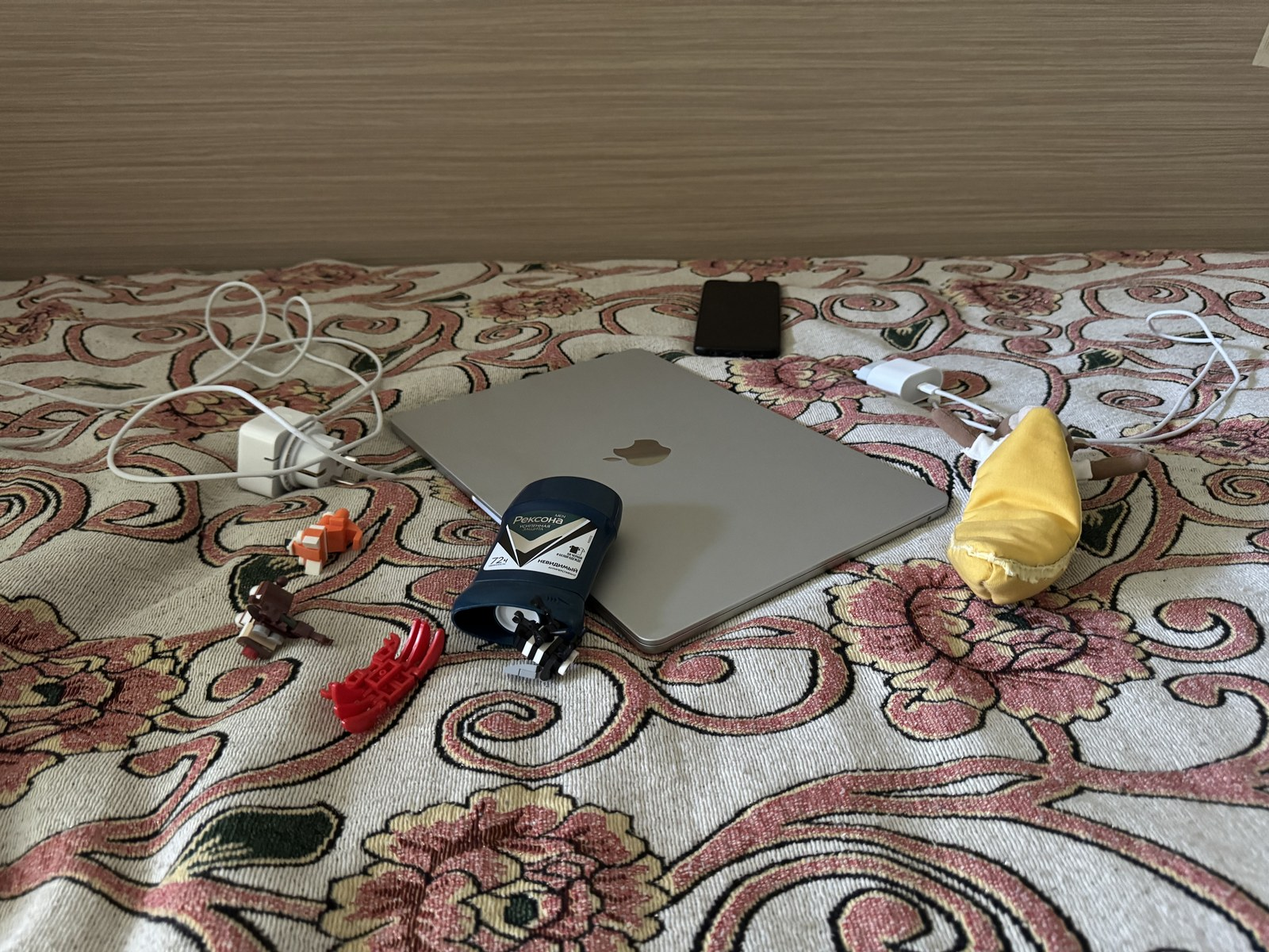cell phone: (693, 278, 781, 358)
laptop: (388, 348, 951, 655)
